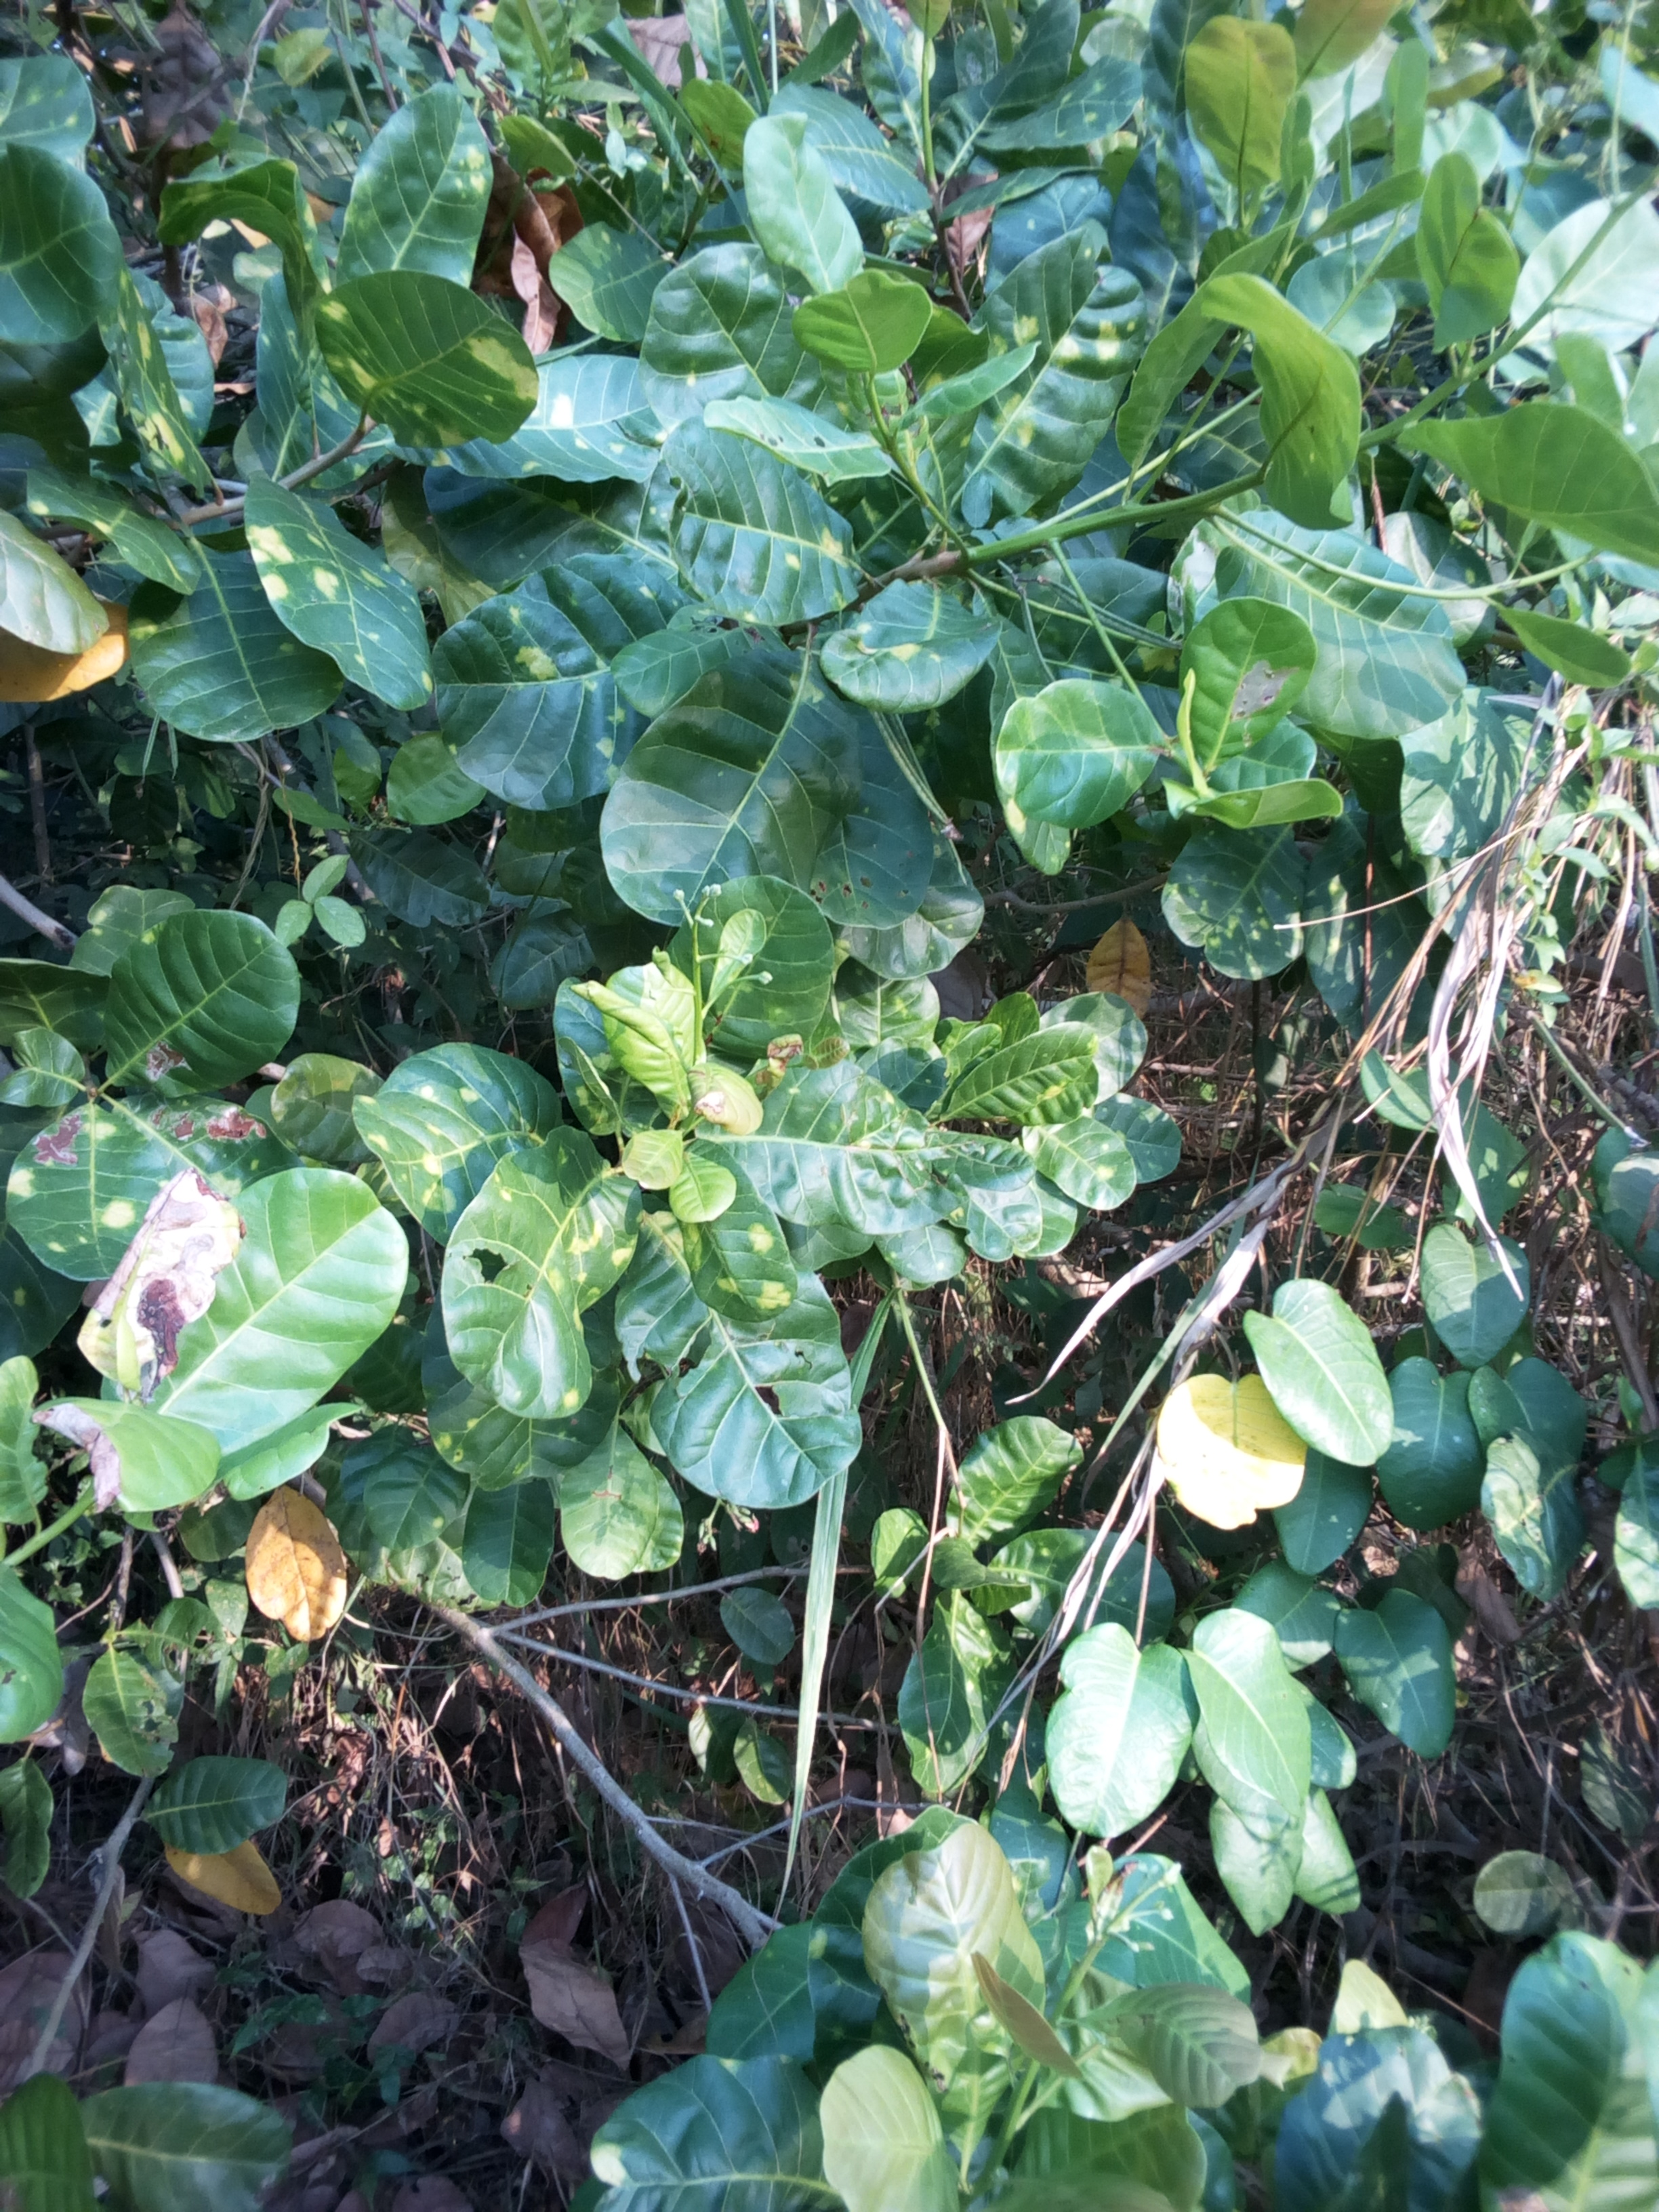Carence minérale: (861, 1791, 1098, 2149), (613, 1181, 870, 1510), (152, 1146, 427, 1432), (450, 547, 701, 812), (220, 455, 453, 719), (291, 266, 572, 465), (979, 232, 1168, 523), (640, 421, 873, 636), (349, 1031, 575, 1214), (951, 1001, 1121, 1153)
